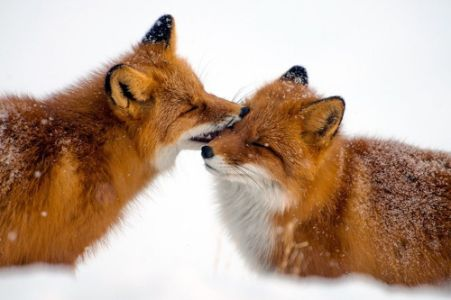fox: (7, 12, 245, 277), (203, 63, 448, 288)
